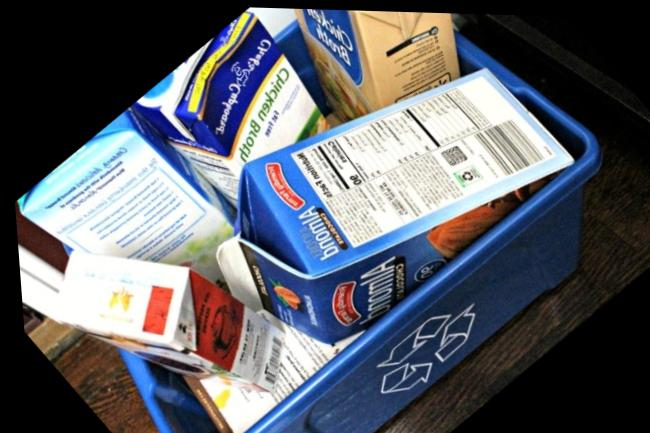cardboard: (219, 11, 571, 432), (17, 211, 336, 432), (133, 10, 360, 211), (18, 105, 232, 294), (251, 8, 458, 156)
